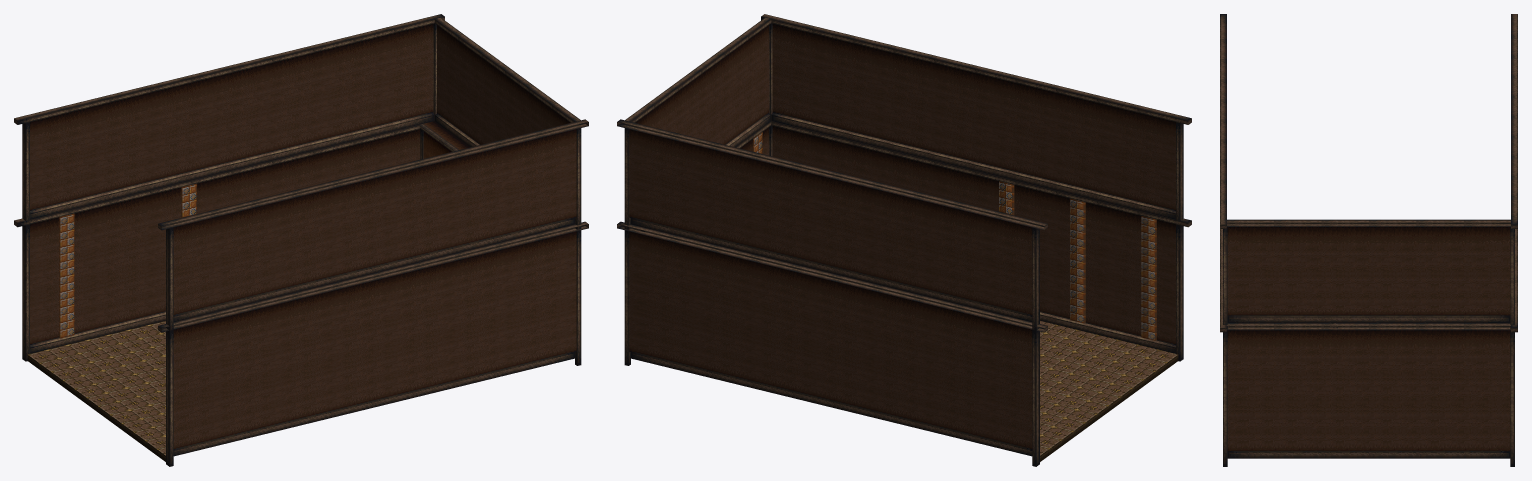
The model's file is EnvBdgMD_Sea_A_Indoor_Pub_A.FBX.
The picture shows the model from 3 angles, left to right: view 1: azimuth 30°, elevation 25°; view 2: azimuth 150°, elevation 25°; view 3: azimuth 270°, elevation 25°; orthographic projection.
Parts seen in each view (by area): view 1: EnvBdgMD_Sea_A_Indoor_Pub_A; view 2: EnvBdgMD_Sea_A_Indoor_Pub_A; view 3: EnvBdgMD_Sea_A_Indoor_Pub_A.
Part boxes in pixels (bbox=[...]): EnvBdgMD_Sea_A_Indoor_Pub_A: bbox=[14, 14, 588, 466]; EnvBdgMD_Sea_A_Indoor_Pub_A: bbox=[617, 14, 1191, 466]; EnvBdgMD_Sea_A_Indoor_Pub_A: bbox=[1220, 14, 1517, 466].
Size of the model in its own units: 2100 by 1140 by 1255.
1 material, 1 textured.
